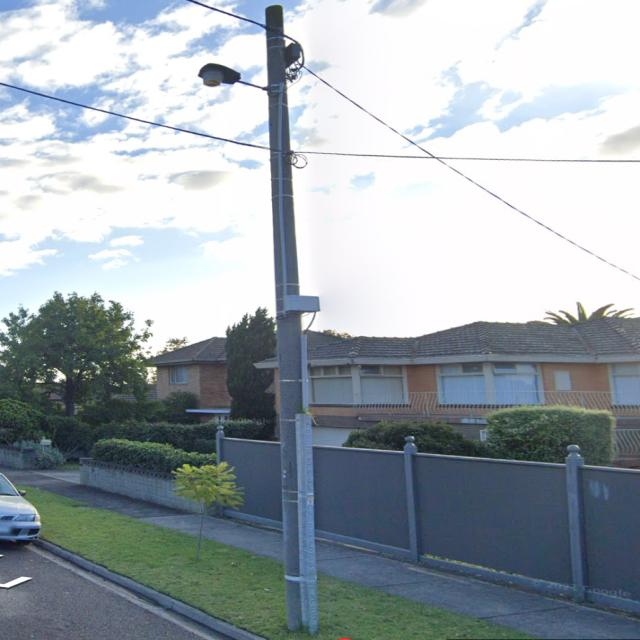concrete-pole: (262, 3, 320, 634)
streetlight: (198, 62, 273, 93)
top mount suitable pole: (198, 4, 320, 634)
